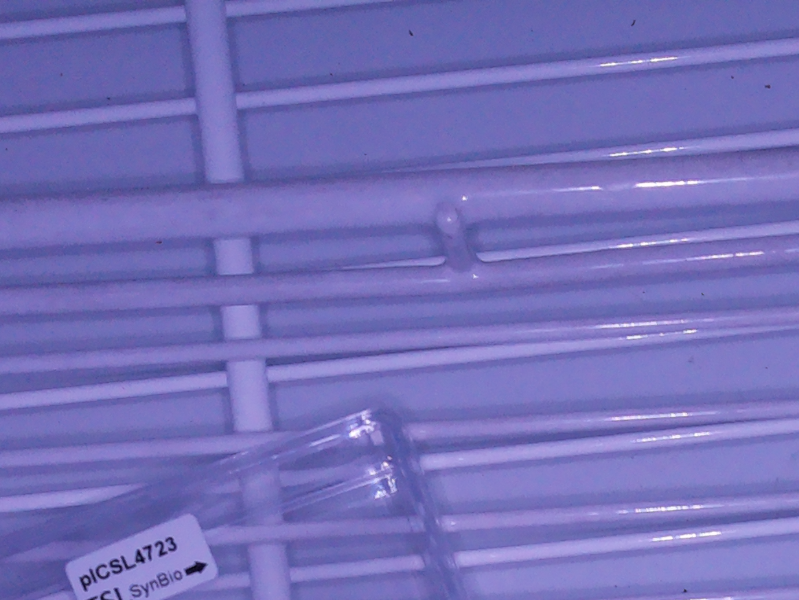plate: (1, 399, 470, 600)
